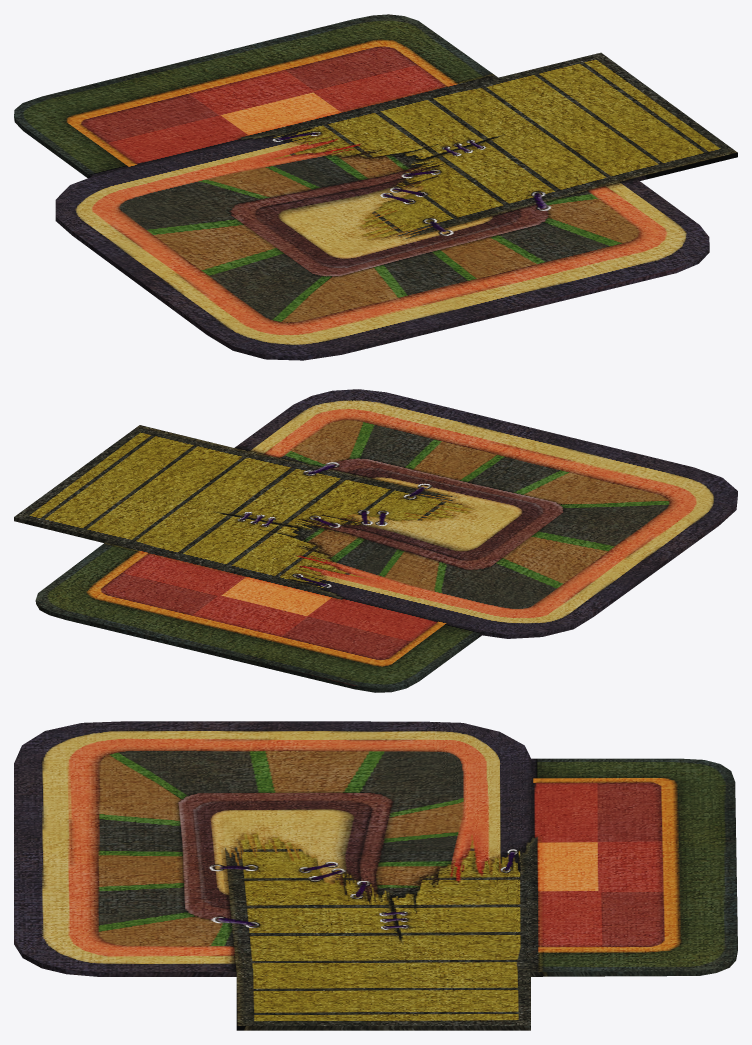
File: M_Home_Garden_Carpet60.fbx
3 views of the same model, one above another, from view 1: azimuth 30°, elevation 25°; view 2: azimuth 150°, elevation 25°; view 3: azimuth 270°, elevation 25° (orthographic). The views are drawn at different scales.
Parts seen in each view (by area): view 1: M_Home_Garden_Carpet60; view 2: M_Home_Garden_Carpet60; view 3: M_Home_Garden_Carpet60.
Boxes of the visible parts, x1=… form: M_Home_Garden_Carpet60: x1=14, y1=14, x2=737, y2=360; M_Home_Garden_Carpet60: x1=14, y1=389, x2=737, y2=692; M_Home_Garden_Carpet60: x1=14, y1=721, x2=737, y2=1030.
Bounding box in the file's own units: 299 × 2.2 × 300.
